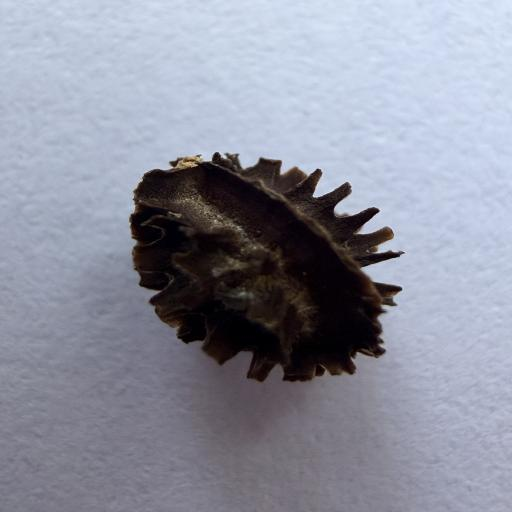papaya_seed: (95, 142, 460, 399)
